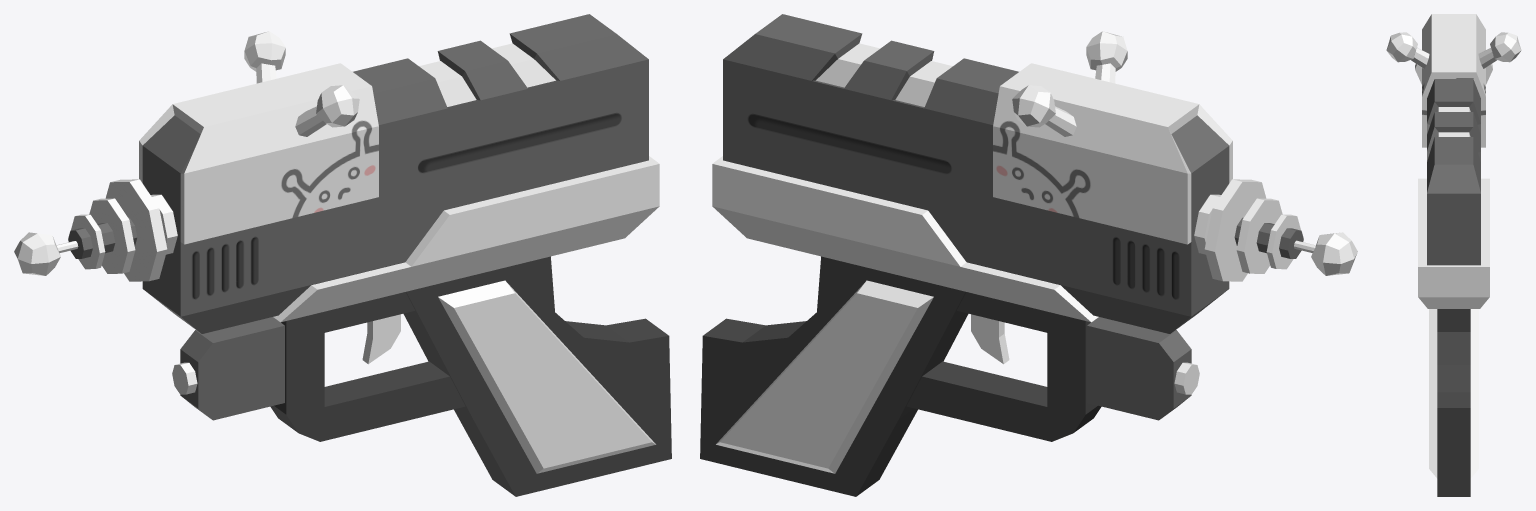
The model's file is gun.fbx.
3 views of the same model, side by side, from view 1: azimuth 30°, elevation 25°; view 2: azimuth 150°, elevation 25°; view 3: azimuth 270°, elevation 25° (orthographic). The views are drawn at different scales.
Visible parts, largest first — view 1: gun; view 2: gun; view 3: gun.
Part boxes in pixels (left/top/right/bottom): gun: left=14, top=14, right=671, bottom=496; gun: left=700, top=14, right=1357, bottom=496; gun: left=1386, top=14, right=1521, bottom=496.
Bounding box in the file's own units: 10.53 × 7.49 × 2.7.
